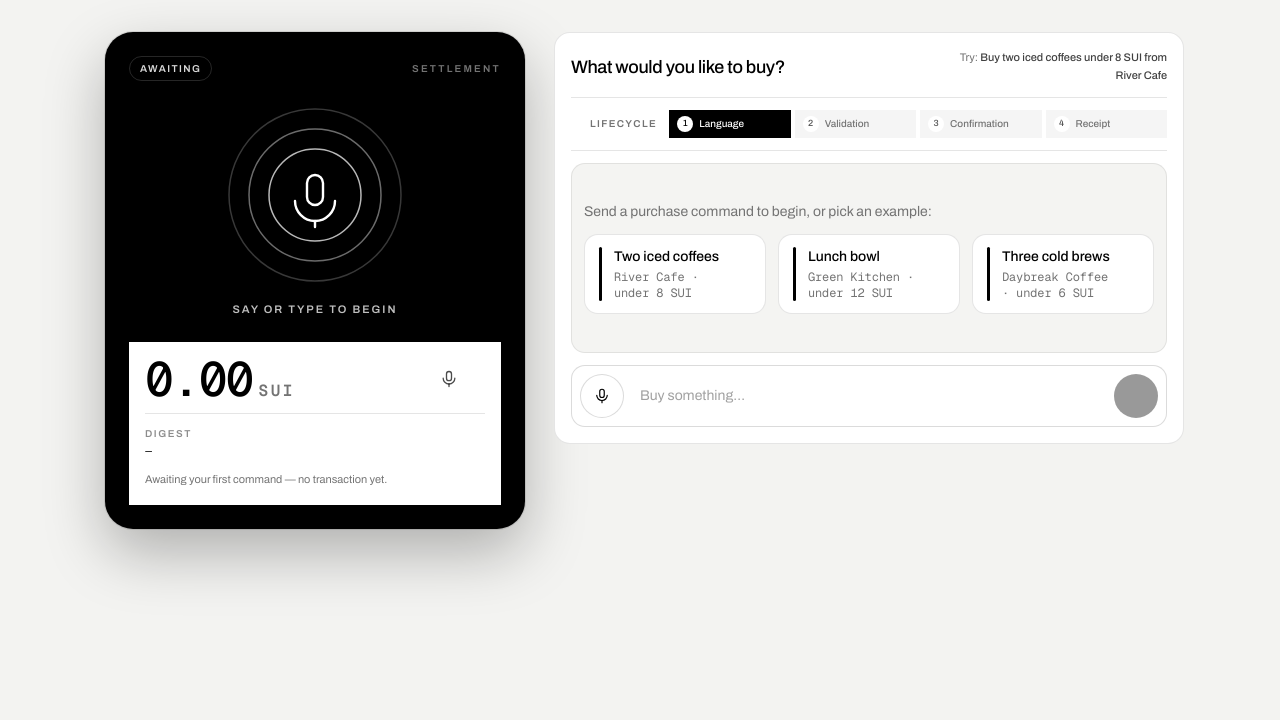
Test case: CommerceChat — Gonka live routing provenance badge › surfaces a GONKA ROUTED badge with a short model and request id on a live route
The width and height of the screenshot is (1280, 720).
Type "Buy two iced coffees under 8 SUI from River Cafe" into the text box.
click(869, 396); type("Buy two iced coffees under 8 SUI from River Cafe")  # box [632,374,1106,418]
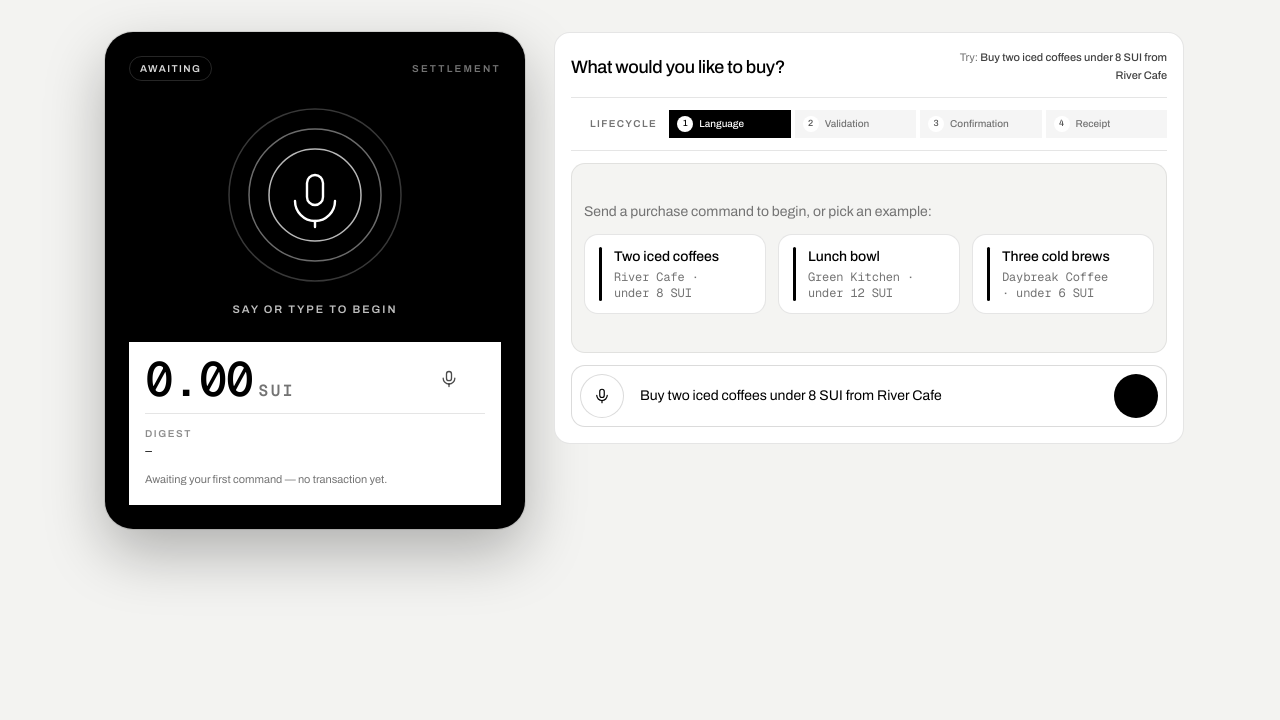
Click the button named "send".
click(1136, 396)  # box [1114,374,1158,418]
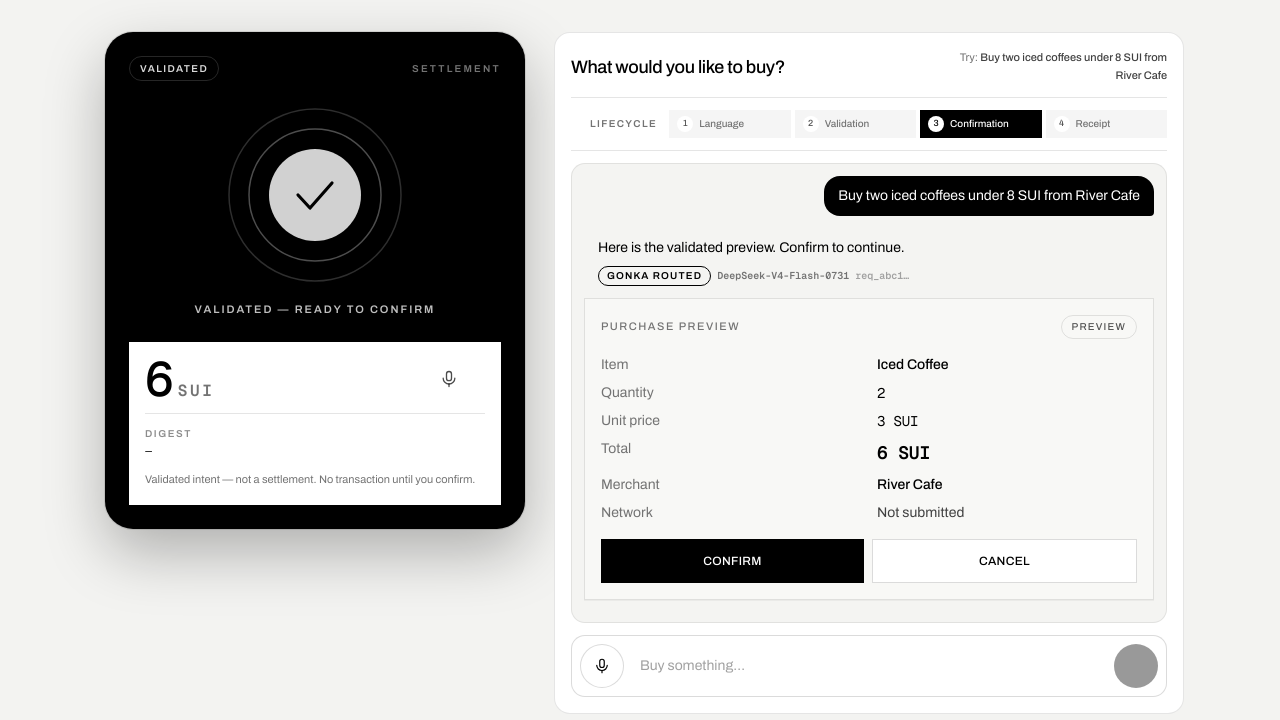
Result: the element with test id "routing-provenance" is shown at [598,266,1140,286]
Result: the element with test id "routing-provenance" shows "Gonka routed" at [607,270,702,281]
Result: the element with test id "routing-provenance" shows "DeepSeek-V4-Flash-0731" at [717,269,849,282]
